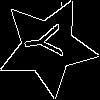Y: (23, 22, 72, 61)
